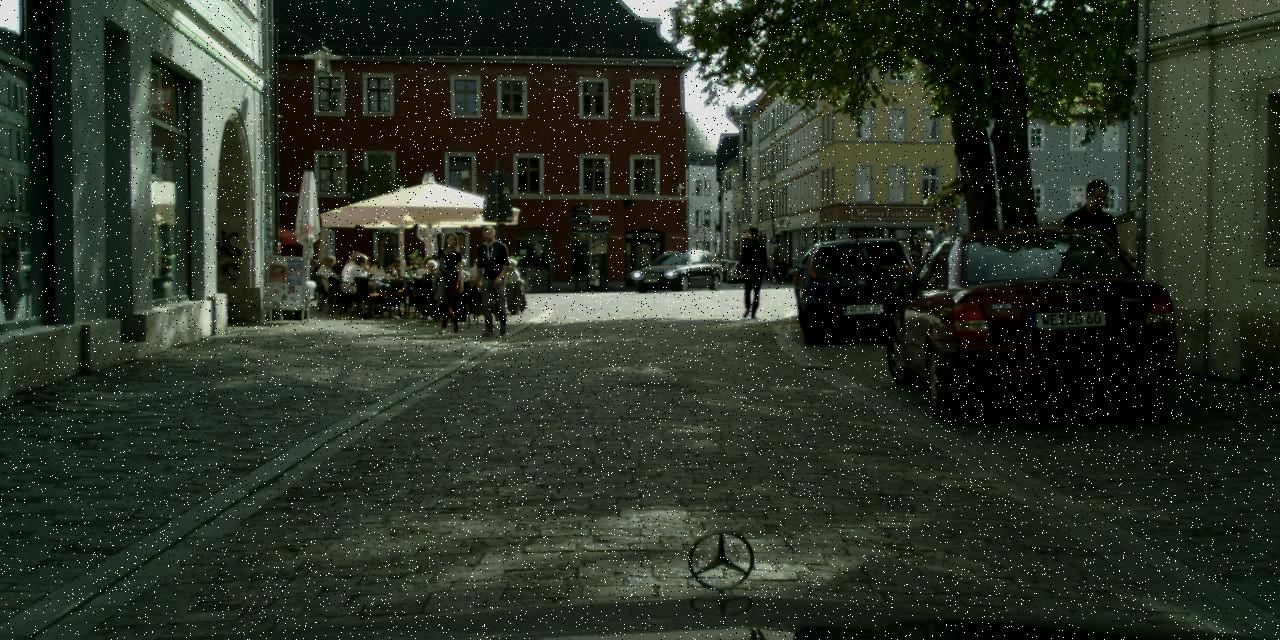ped: (1054, 179, 1129, 362), (471, 224, 515, 334), (431, 232, 470, 329), (733, 227, 769, 316), (928, 221, 954, 283), (922, 229, 941, 277), (906, 235, 924, 277), (918, 242, 933, 277), (768, 253, 778, 281), (776, 257, 786, 282), (762, 258, 771, 278), (786, 265, 792, 282)
